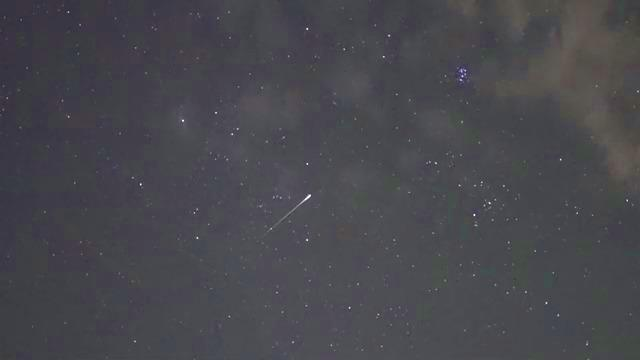meteorite: (250, 191, 327, 236)
